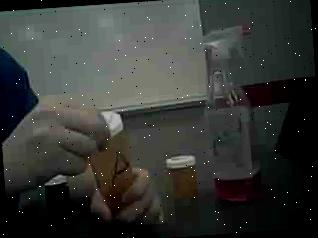Bottle A: (70, 89, 170, 238)
Bottle B: (162, 146, 204, 204)
Bottle C: (35, 159, 79, 238)
hazard: (192, 16, 281, 208)
